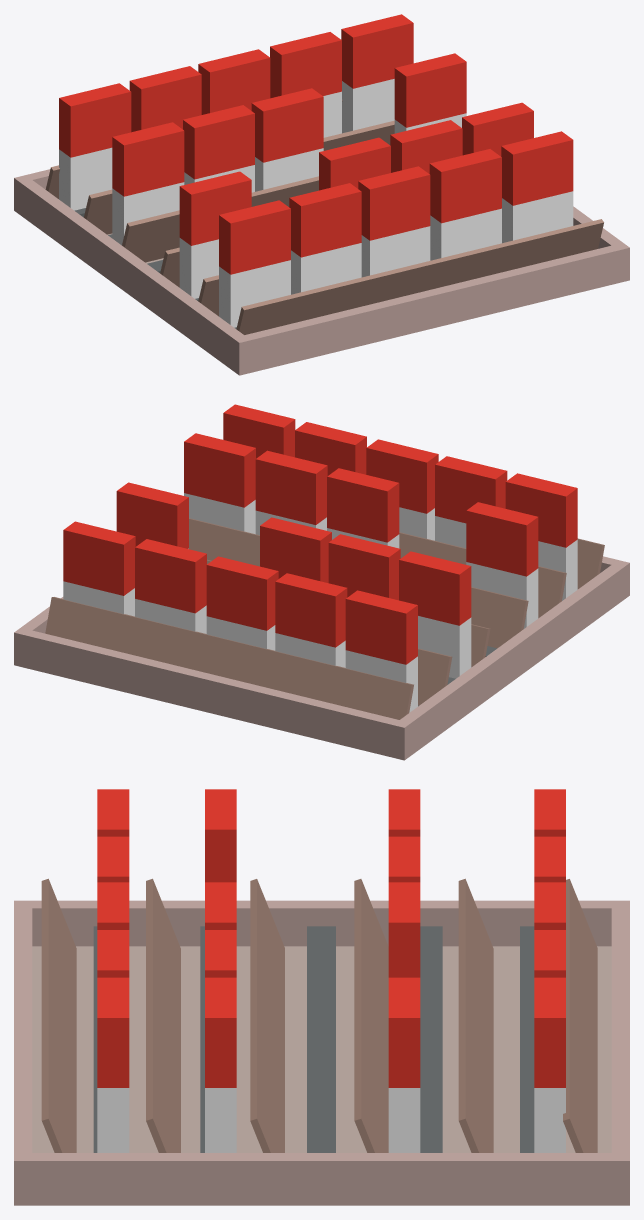
The model's file is SM_box_cigs_alt.fbx.
3 views of the same model, one above another, from view 1: azimuth 30°, elevation 25°; view 2: azimuth 150°, elevation 25°; view 3: azimuth 270°, elevation 25° (orthographic). The views are drawn at different scales.
Visible parts, largest first — view 1: box_cigs_alt; view 2: box_cigs_alt; view 3: box_cigs_alt.
Part boxes in pixels (left/top/right/bottom): box_cigs_alt: left=14, top=14, right=629, bottom=375; box_cigs_alt: left=14, top=404, right=629, bottom=760; box_cigs_alt: left=14, top=789, right=629, bottom=1205.
Size of the model in its own units: 90.91 by 27.89 by 90.91.
